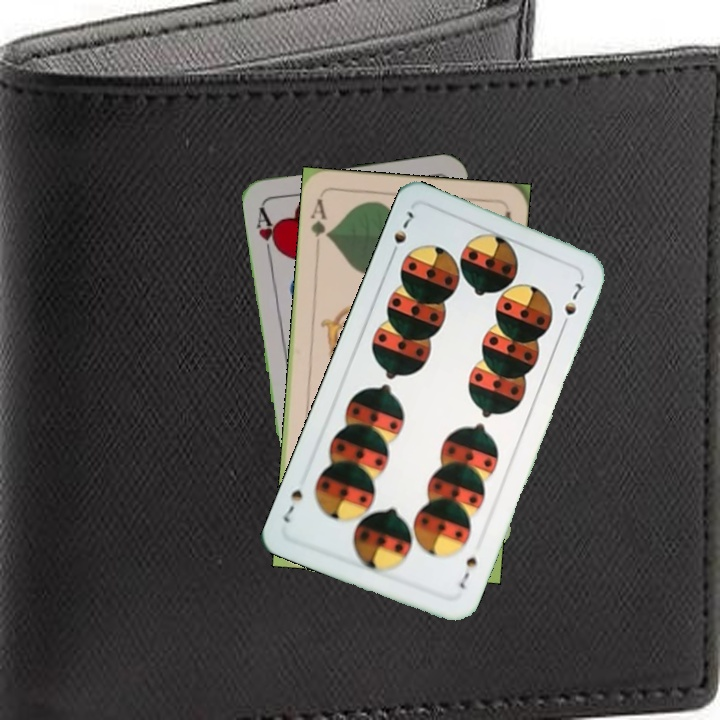GA: (306, 195, 332, 241)
HA: (252, 203, 282, 261)
S7: (386, 206, 417, 261), (455, 552, 480, 591)
